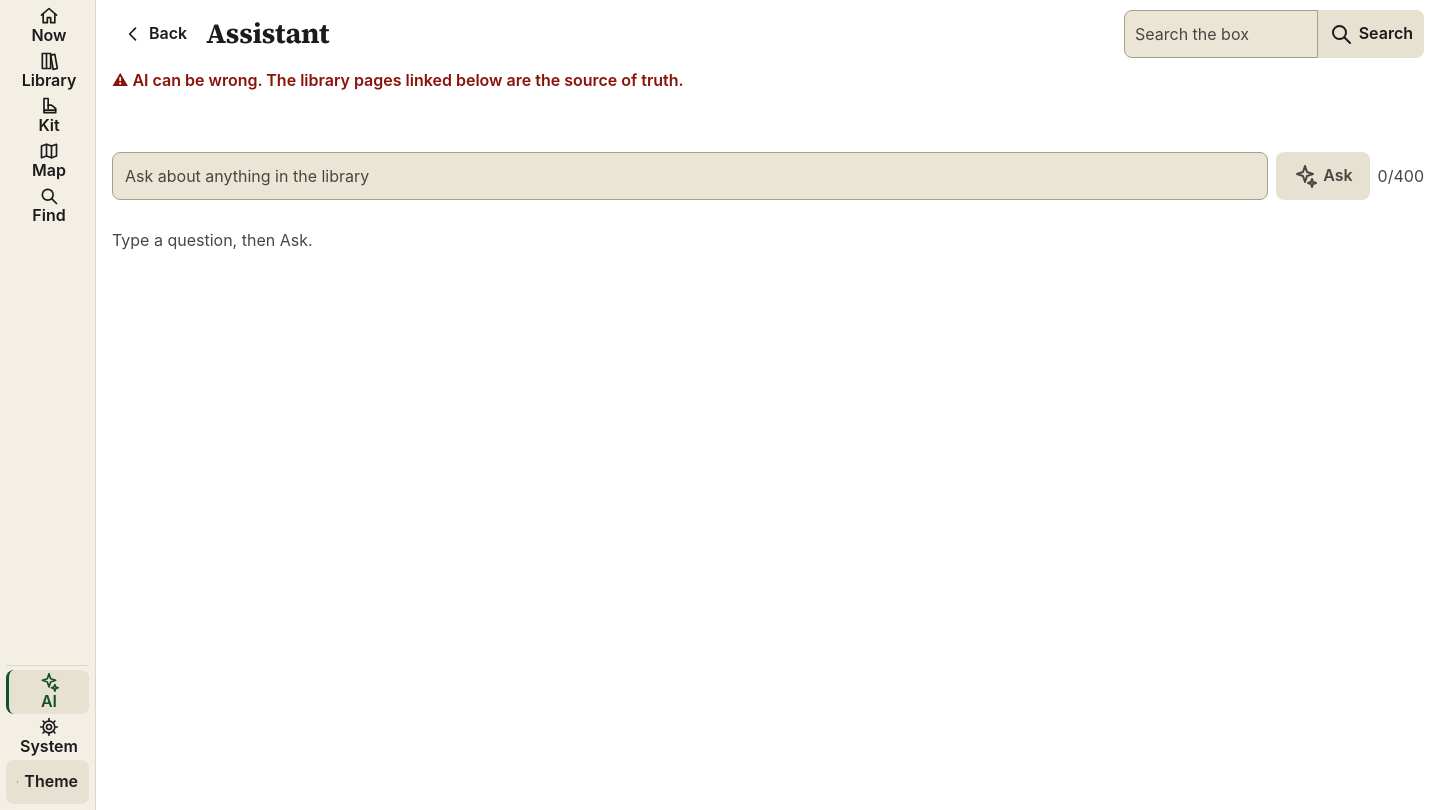
Ai screen › ignores retrieving/token/done/error events that arrive after a turn is already done
In the field named "Your question": {"x": 690, "y": 176} x1=112 y1=152 x2=1268 y2=200, type "signs of dehydration"
Then press Enter
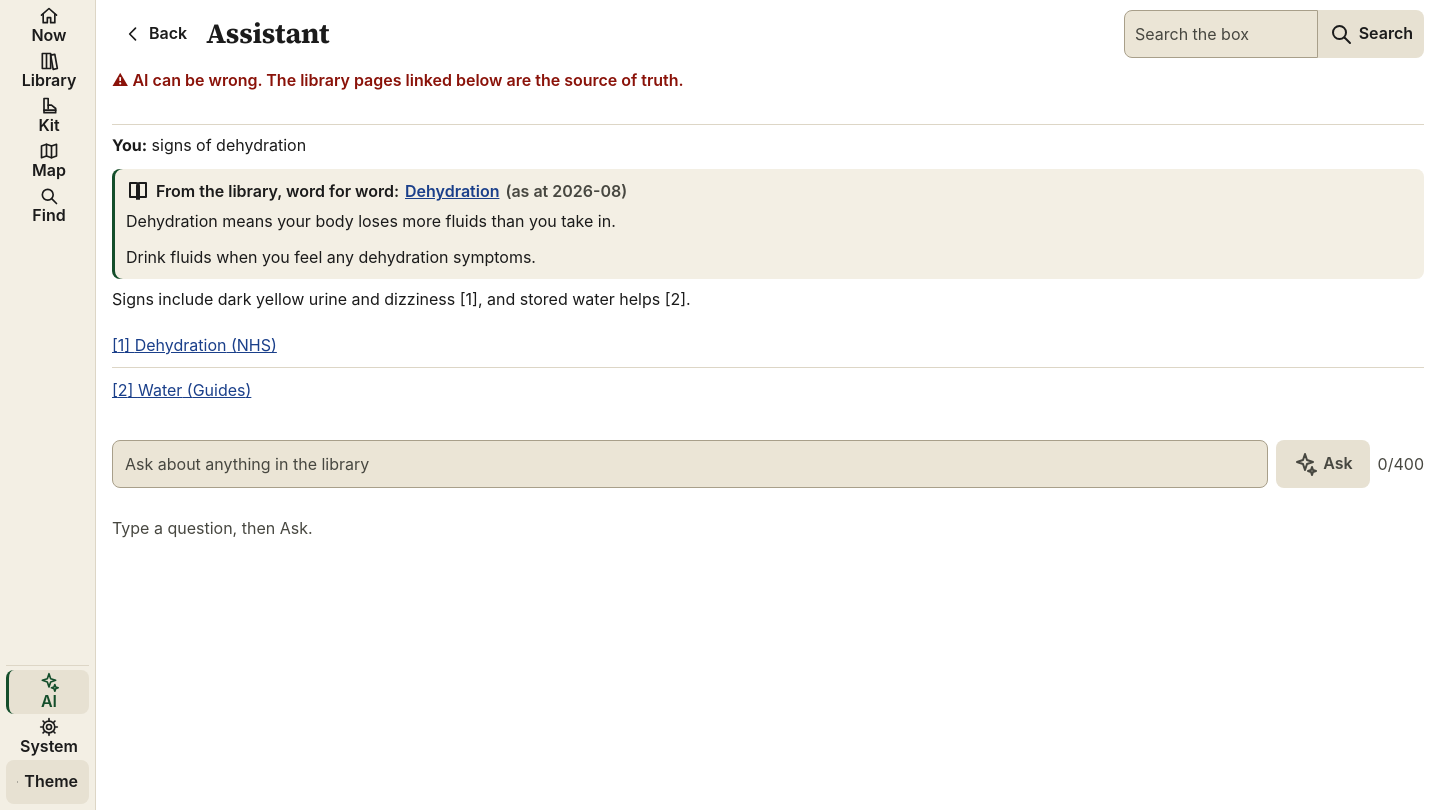
Now the text "Signs include dark yellow urine and dizziness [1], and stored water helps [2]." is shown, box x1=112 y1=289 x2=691 y2=309
Now the link "[1] Dehydration (NHS)" is shown, box x1=112 y1=335 x2=277 y2=355
In the field named "Your question": {"x": 690, "y": 464} x1=112 y1=440 x2=1268 y2=488, type "another question"
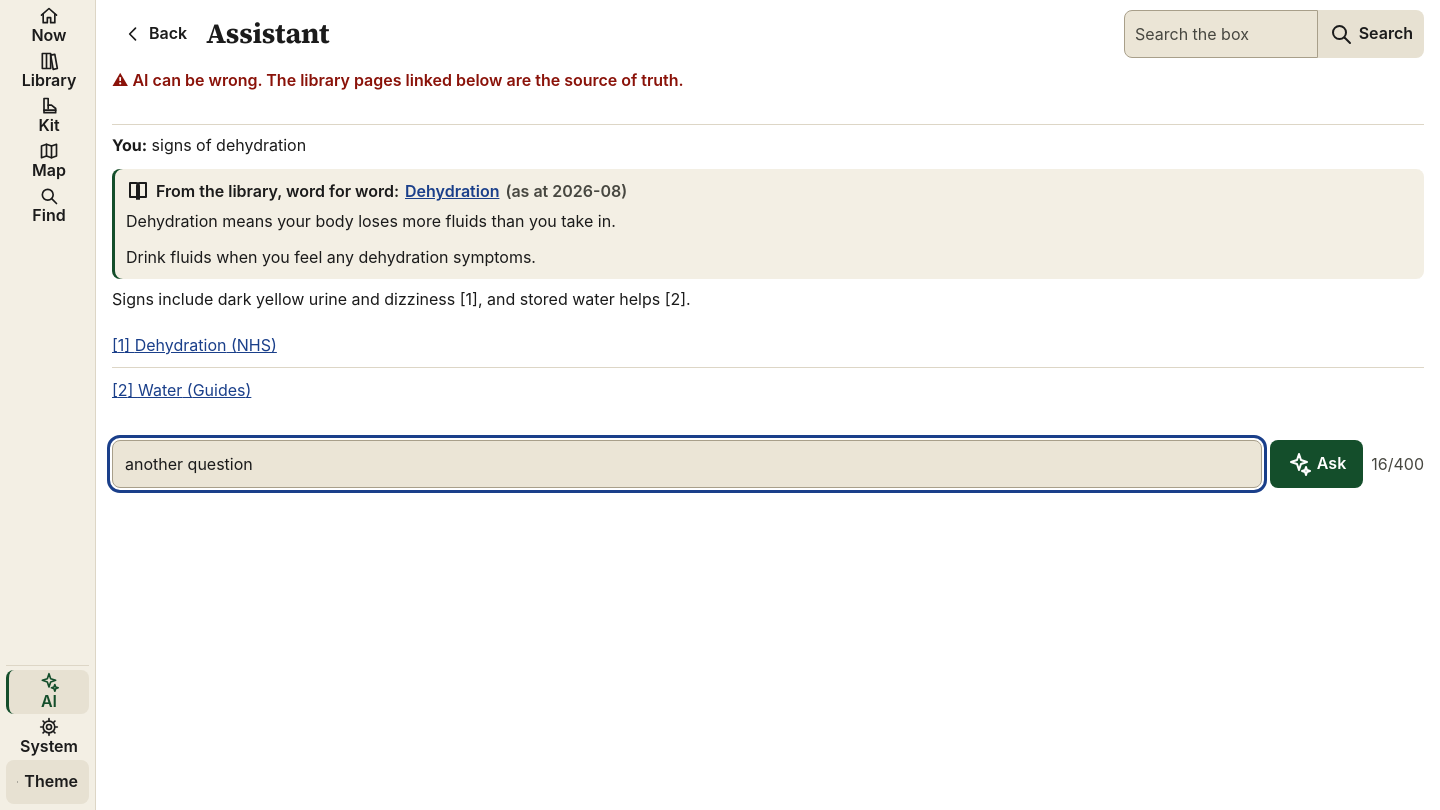
Now the button "Ask" is enabled, box x1=1270 y1=440 x2=1363 y2=488
